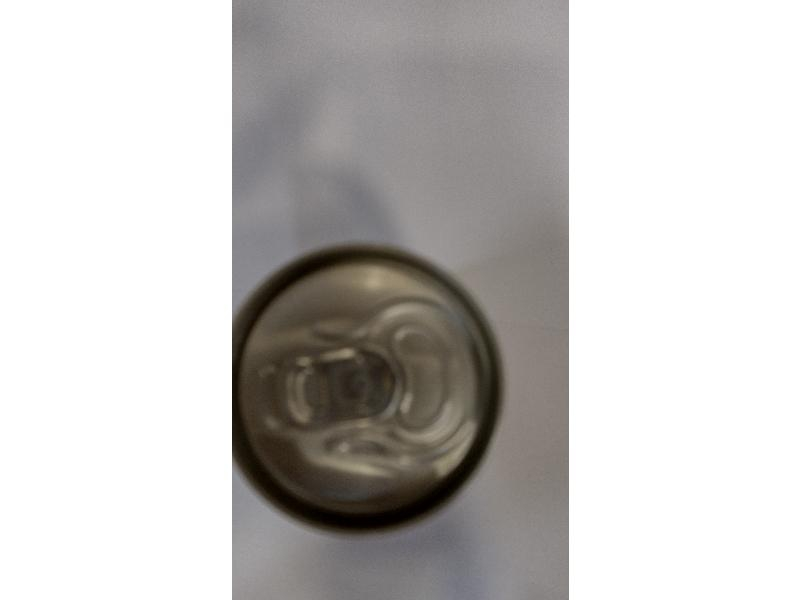can: (238, 244, 503, 538)
